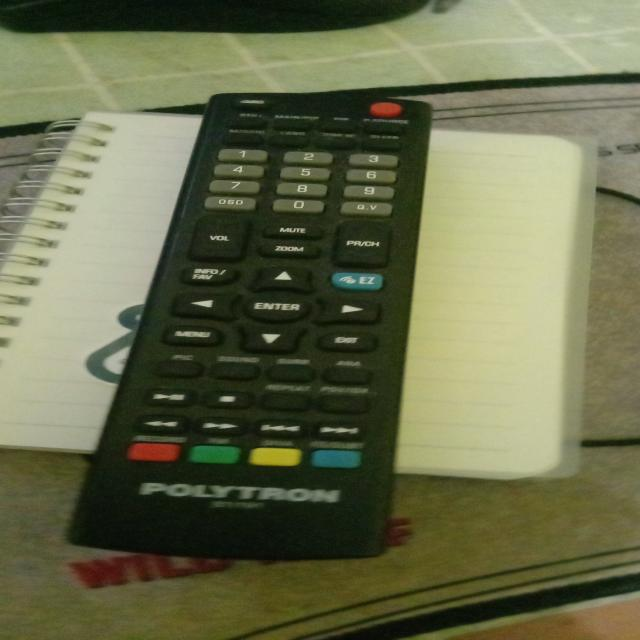remote: (43, 86, 439, 555)
